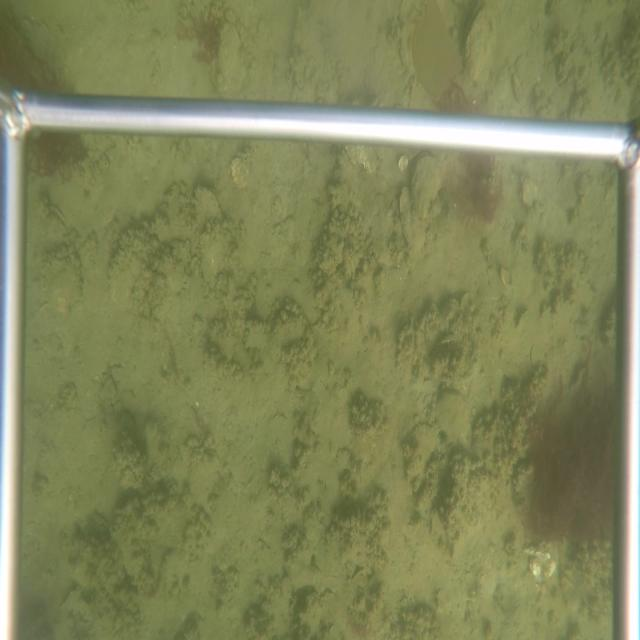Oyster-Closed: (409, 151, 446, 220), (397, 183, 427, 253)
Oyster-Indeterminate: (433, 385, 471, 441), (191, 183, 225, 227)
Oyster-Open: (462, 0, 502, 83)
